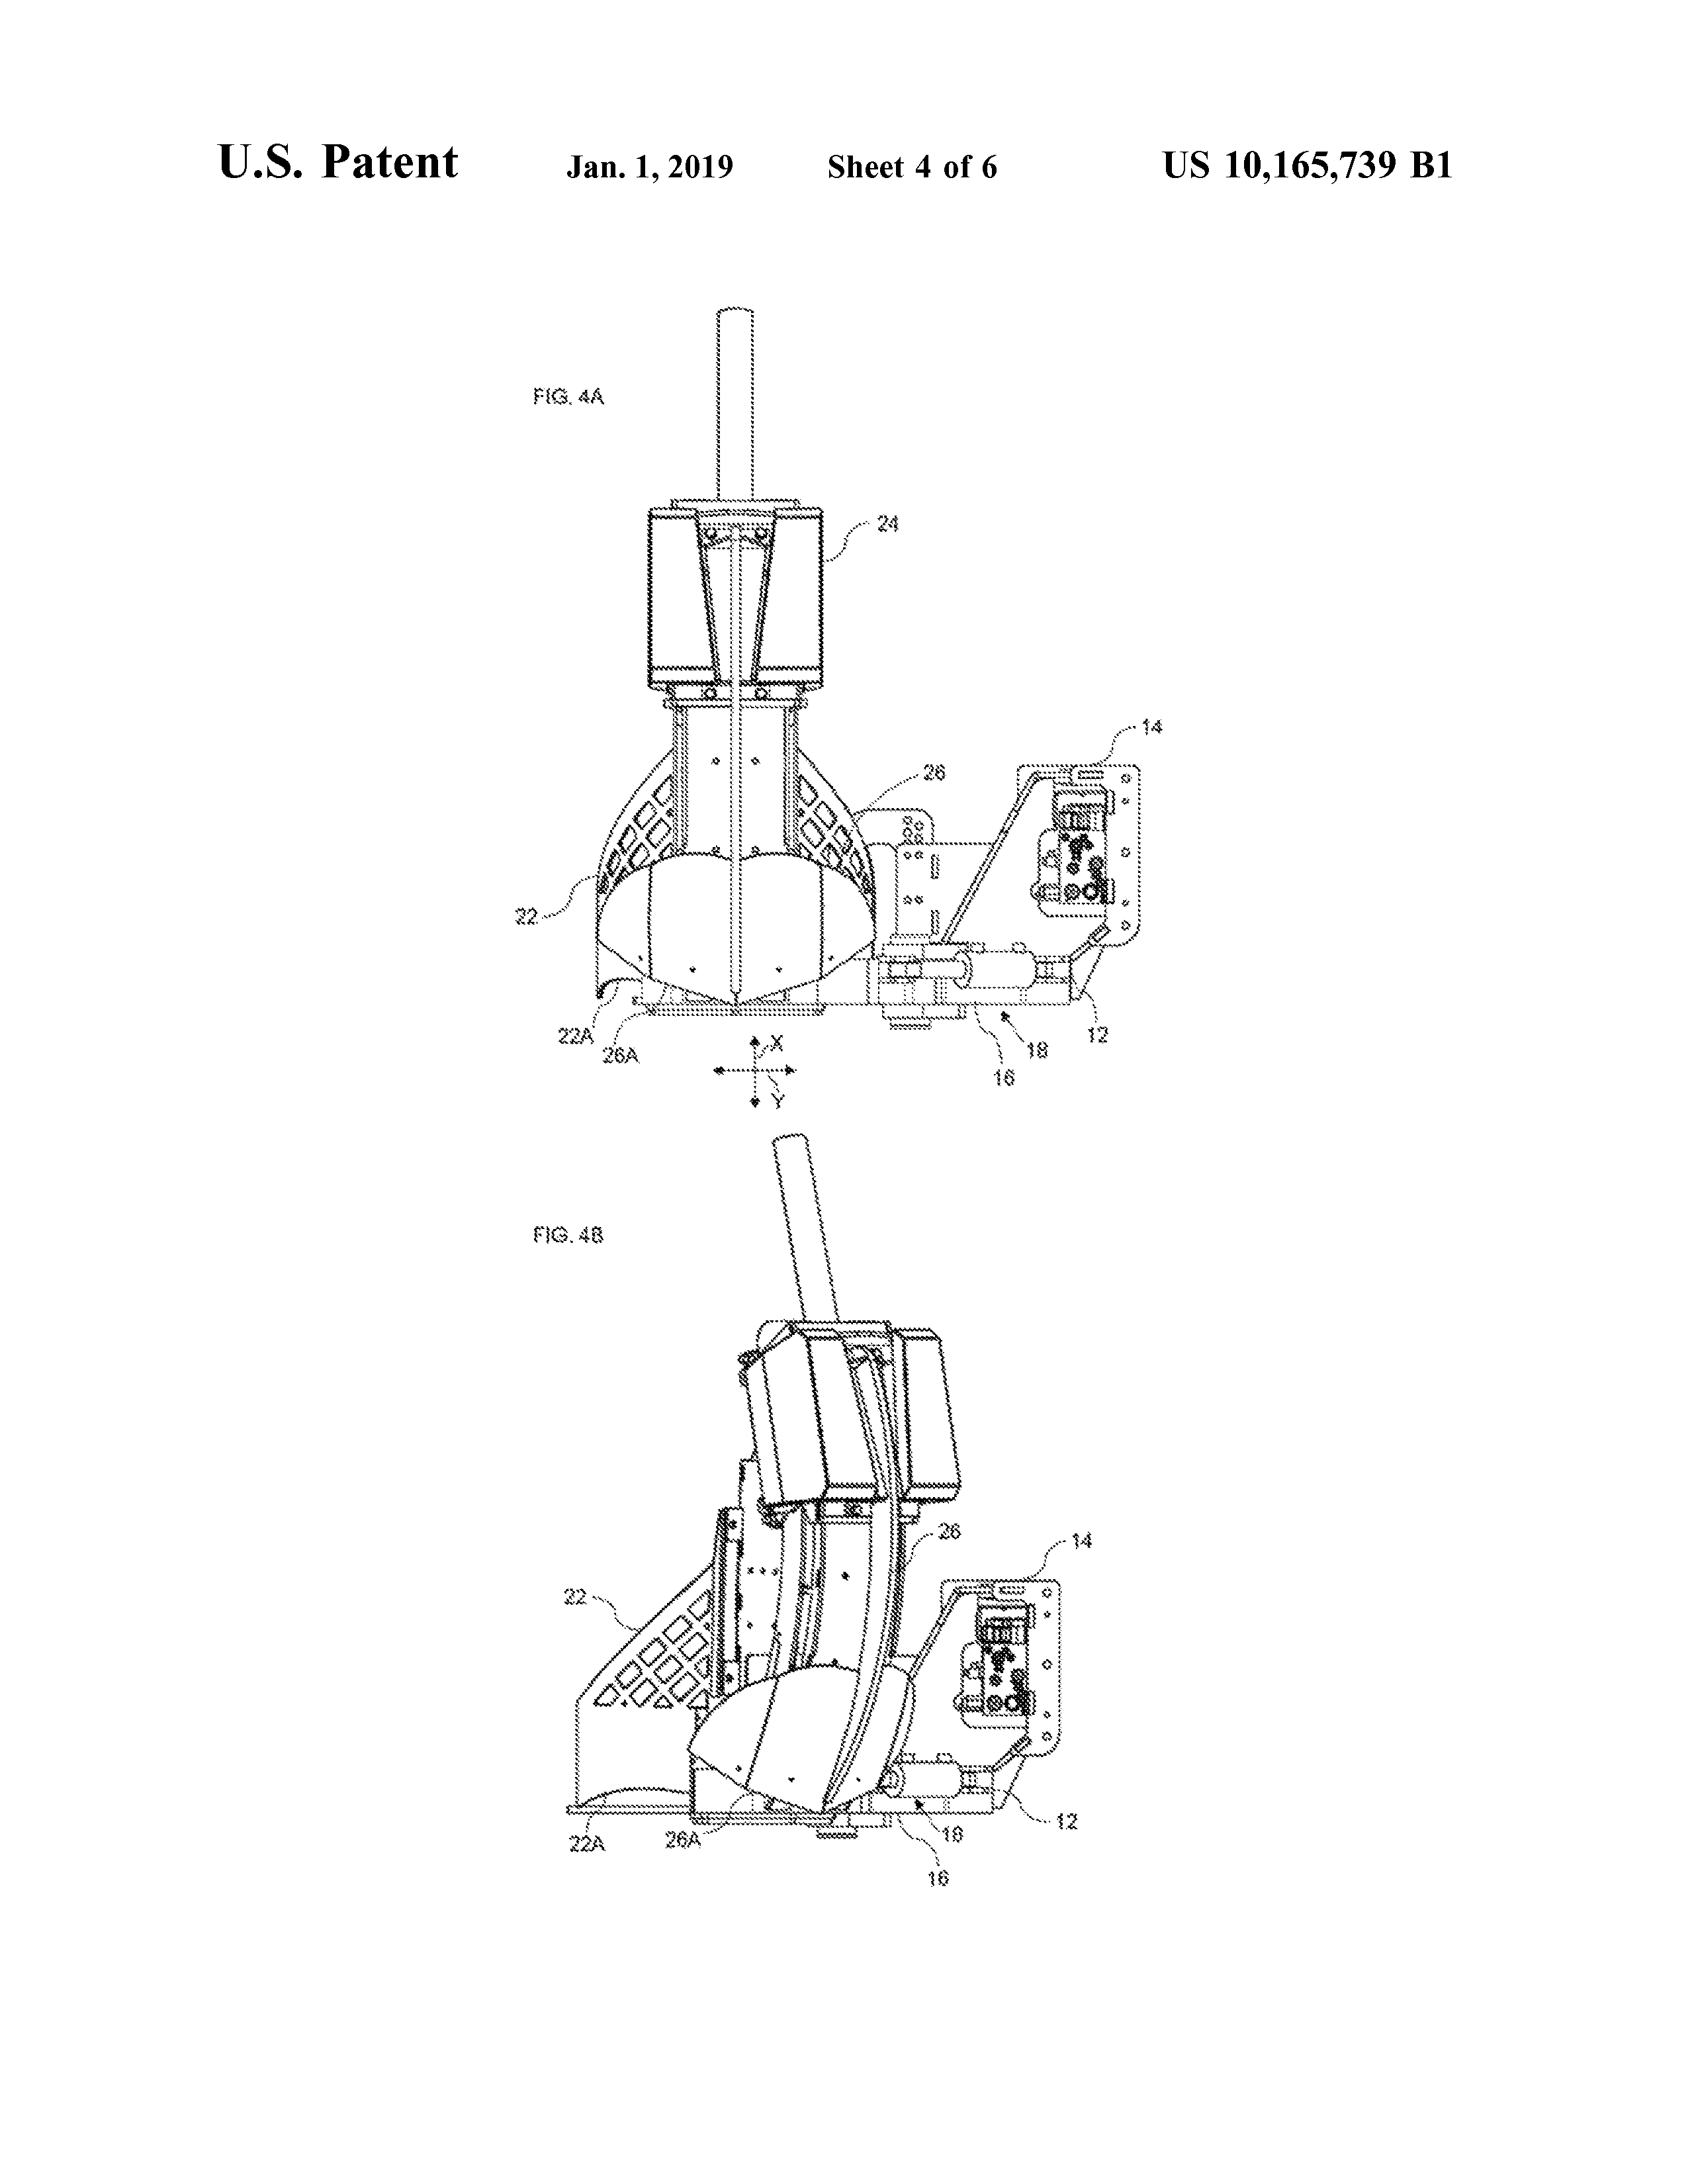patent image: (492, 279, 1177, 1122), (498, 1122, 1132, 1905)
